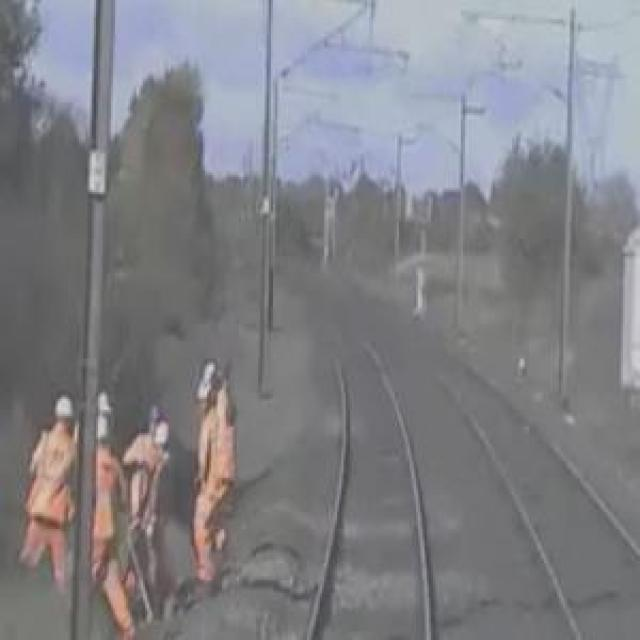danger: (10, 343, 260, 640)
rail: (271, 251, 640, 640)
